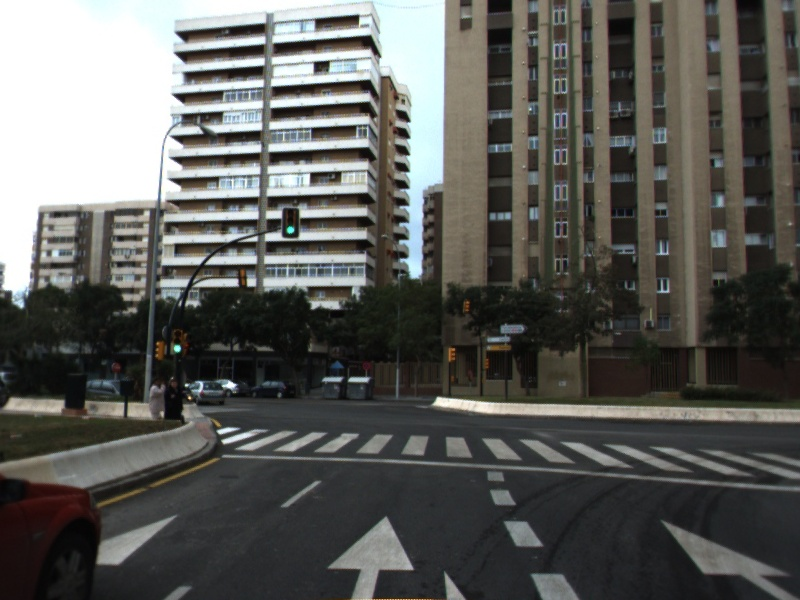STRAIGHT: (655, 515, 800, 599), (323, 512, 419, 600)
